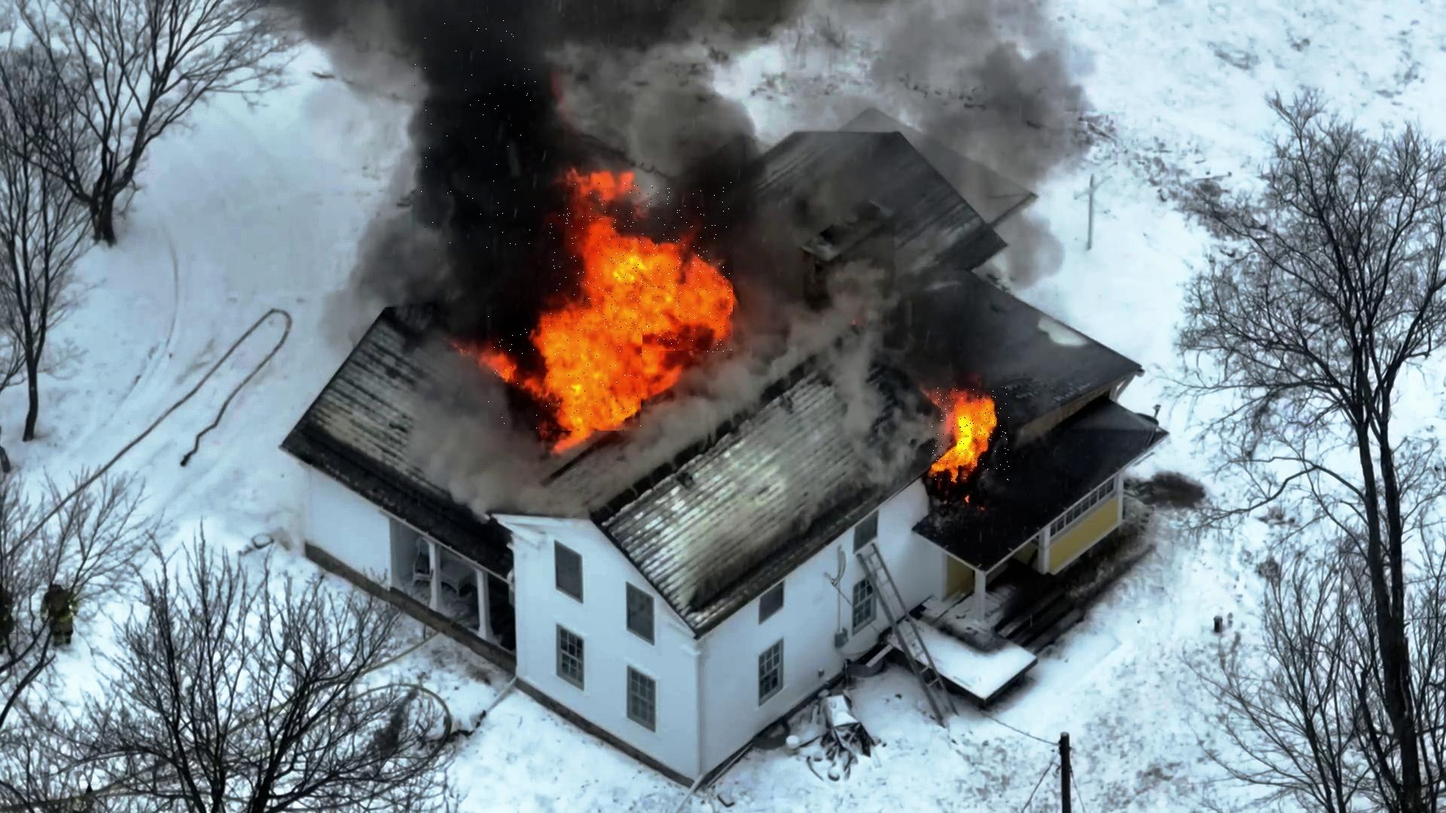fire: (550, 183, 733, 353), (488, 317, 642, 431), (932, 388, 1010, 482)
smoke: (414, 21, 540, 255)
